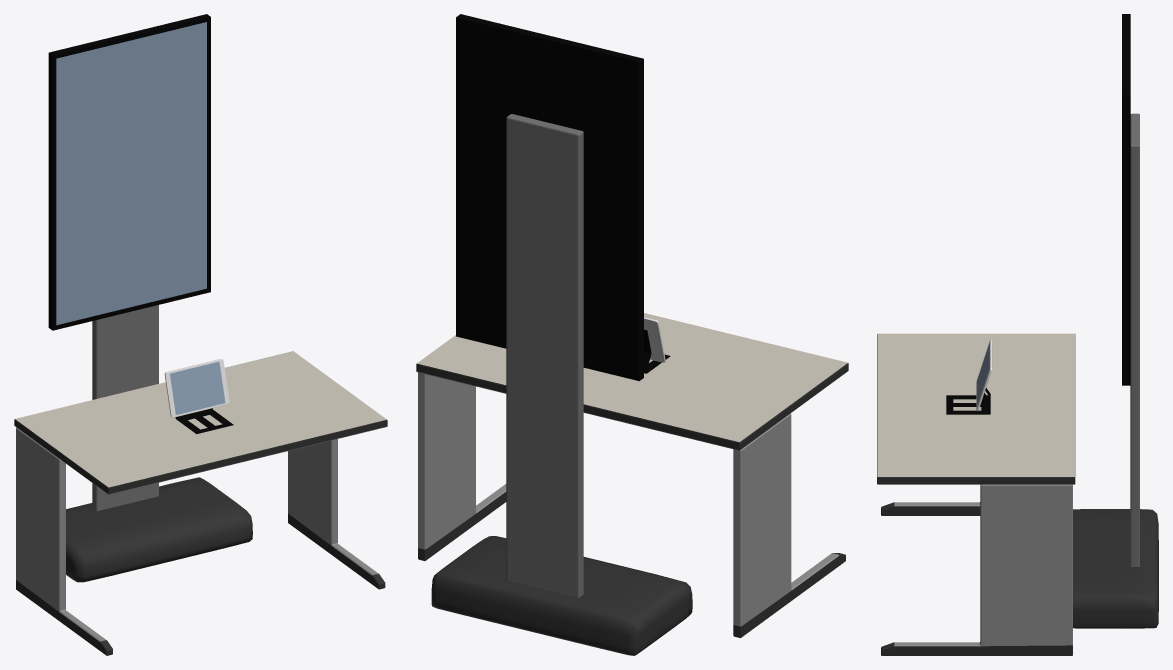
The model's file is exhibition_table].glb.
3 renders of one model, left to right at view 1: azimuth 30°, elevation 25°; view 2: azimuth 150°, elevation 25°; view 3: azimuth 270°, elevation 25°, orthographic. The views are drawn at different scales.
Parts seen in each view (by area): view 1: Screen, Plane, Cube.002, Cube.004, Cube.001, Cube.003, Cylinder.003, Plane.002; view 2: Screen, Cube.001, Plane, Cube.002, Cube.004, Cube.003; view 3: Plane, Cube.003, Cube.002, Cube.001, Screen, Cube.004, Plane.002, Cylinder.003.
Boxes of the visible parts, bbox=[...] form: Screen: bbox=[48, 14, 210, 330]; Plane: bbox=[14, 351, 387, 494]; Cube.002: bbox=[66, 477, 252, 582]; Cube.004: bbox=[16, 427, 112, 655]; Cube.001: bbox=[92, 305, 158, 511]; Cube.003: bbox=[288, 439, 385, 589]; Cylinder.003: bbox=[164, 359, 229, 417]; Plane.002: bbox=[175, 408, 233, 434]; Screen: bbox=[456, 14, 643, 381]; Cube.001: bbox=[506, 114, 583, 597]; Plane: bbox=[416, 313, 848, 450]; Cube.002: bbox=[431, 536, 692, 655]; Cube.004: bbox=[733, 413, 845, 637]; Cube.003: bbox=[418, 372, 506, 560]; Plane: bbox=[877, 333, 1075, 484]; Cube.003: bbox=[881, 484, 1072, 655]; Cube.002: bbox=[1073, 509, 1158, 628]; Cube.001: bbox=[1130, 113, 1139, 566]; Screen: bbox=[1122, 14, 1130, 385]; Cube.004: bbox=[881, 502, 980, 515]; Plane.002: bbox=[946, 388, 990, 414]; Cylinder.003: bbox=[976, 339, 992, 411].
Bounding box in the file's own units: 1.2 × 2.06 × 0.9949.
